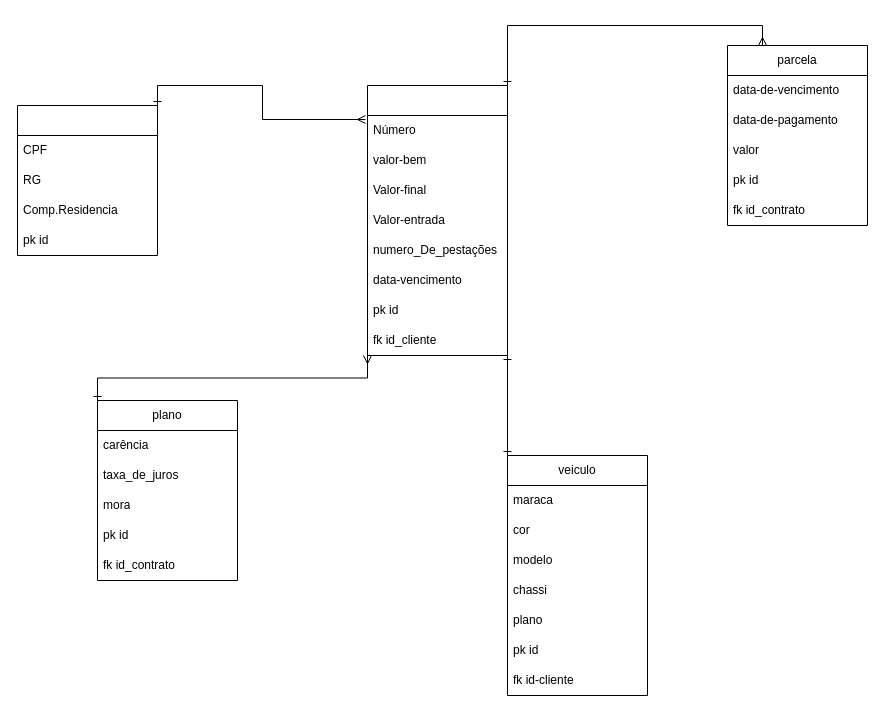
This 885x713 diagram has some shape labels left out. The shapes that lost their labels are listed below. From the top down, each one's box as (x1, y1, x2, y2) in pixels, then its label:
(16, 104, 158, 256): Cliente
(366, 84, 508, 356): Contratos
